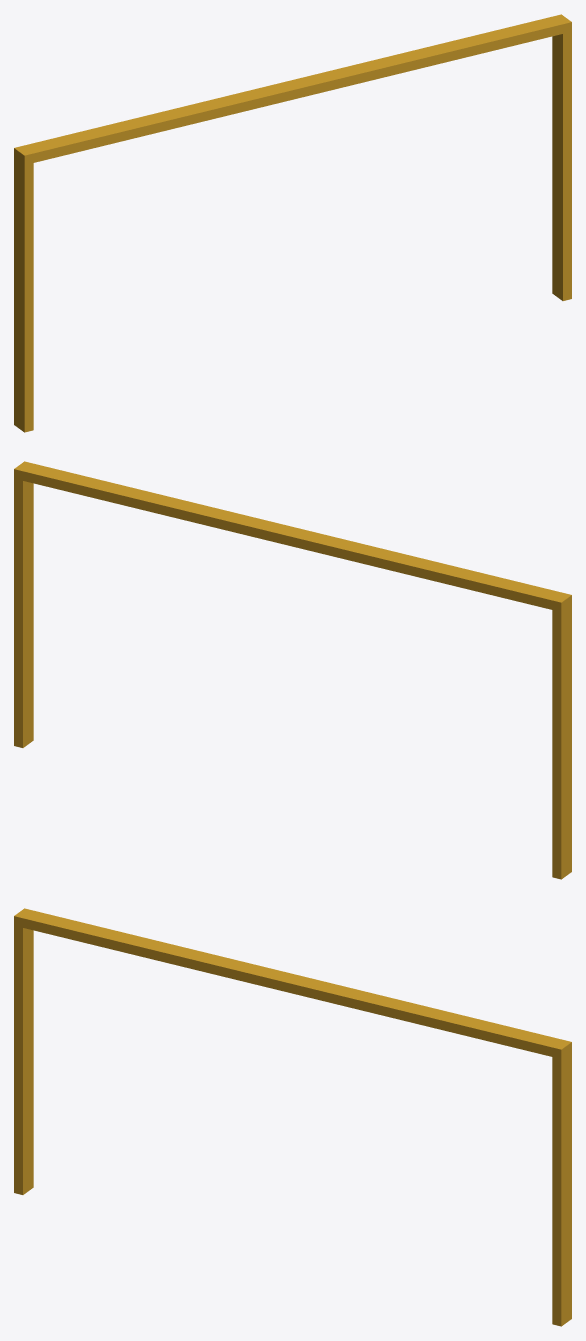
File: double_decker_stair_rail.glb
The picture shows the model from 3 angles, top to bottom: view 1: azimuth 30°, elevation 25°; view 2: azimuth 150°, elevation 25°; view 3: azimuth 330°, elevation 25°; orthographic projection.
Visible parts, largest first — view 1: body:compound; view 2: body:compound; view 3: body:compound.
Boxes of the visible parts, x1,y1,x2,y2 form: body:compound: (14,14,571,432); body:compound: (14,461,571,879); body:compound: (14,908,571,1326).
Size of the model in its own units: 1.88 by 0.9062 by 0.0625.
